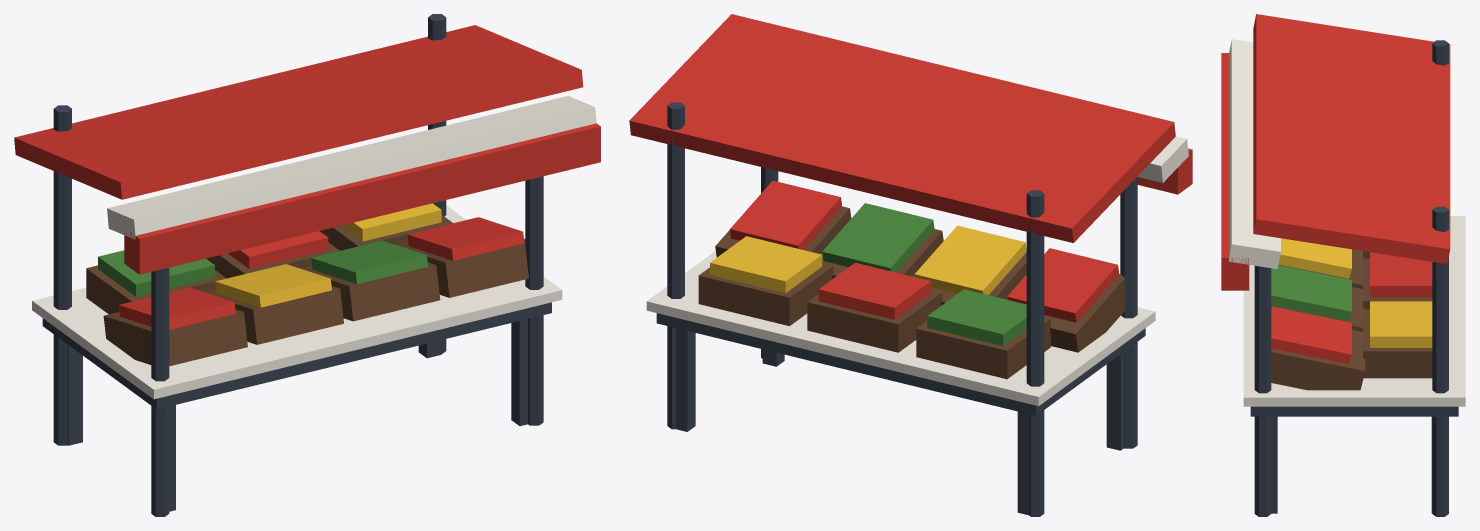
The model's file is cittaBanco.glb.
3 renders of one model, left to right at view 1: azimuth 30°, elevation 25°; view 2: azimuth 150°, elevation 25°; view 3: azimuth 270°, elevation 25°, orthographic. The views are drawn at different scales.
Visible parts, largest first — view 1: cittaBanco_red, cittaBanco_white, cittaBanco_steelDark, cittaBanco_bark, cittaBanco_green, cittaBanco_yellow; view 2: cittaBanco_red, cittaBanco_steelDark, cittaBanco_bark, cittaBanco_white, cittaBanco_yellow, cittaBanco_green; view 3: cittaBanco_red, cittaBanco_white, cittaBanco_steelDark, cittaBanco_bark, cittaBanco_yellow, cittaBanco_green.
Boxes of the visible parts, left/top/right/bottom form: cittaBanco_red: left=14, top=25, right=600, bottom=329; cittaBanco_white: left=32, top=96, right=596, bottom=399; cittaBanco_steelDark: left=42, top=14, right=551, bottom=516; cittaBanco_bark: left=86, top=215, right=528, bottom=366; cittaBanco_green: left=98, top=240, right=428, bottom=296; cittaBanco_yellow: left=215, top=203, right=441, bottom=307; cittaBanco_red: left=629, top=14, right=1192, bottom=322; cittaBanco_steelDark: left=656, top=102, right=1145, bottom=516; cittaBanco_bark: left=698, top=206, right=1125, bottom=379; cittaBanco_white: left=646, top=136, right=1188, bottom=406; cittaBanco_yellow: left=710, top=225, right=1026, bottom=294; cittaBanco_green: left=822, top=203, right=1026, bottom=346; cittaBanco_red: left=1221, top=14, right=1450, bottom=364; cittaBanco_white: left=1228, top=39, right=1465, bottom=406; cittaBanco_steelDark: left=1250, top=40, right=1458, bottom=516; cittaBanco_bark: left=1271, top=249, right=1432, bottom=390; cittaBanco_yellow: left=1278, top=238, right=1432, bottom=347; cittaBanco_green: left=1271, top=265, right=1351, bottom=321.
Bounding box in the file's own units: 3.5 × 2.5 × 1.76.
